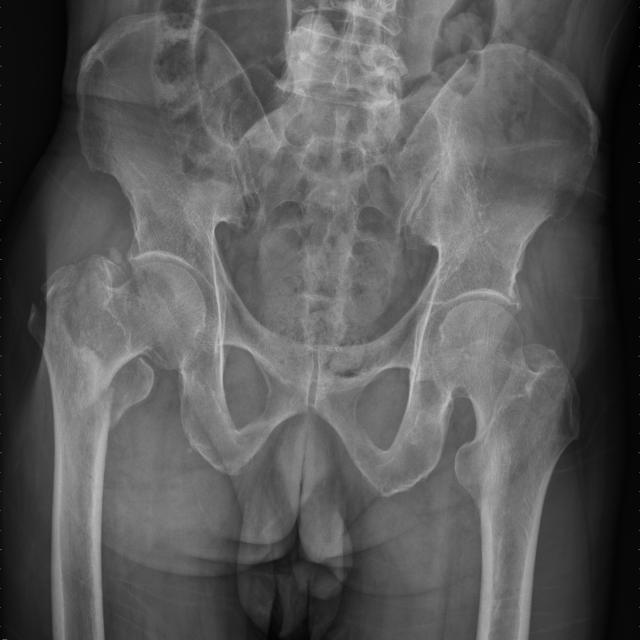normal-left: (432, 301, 580, 592)
right-intertrochanteric: (41, 254, 207, 407), (28, 304, 115, 474)
right-lesser-trochanter: (111, 358, 154, 431)
